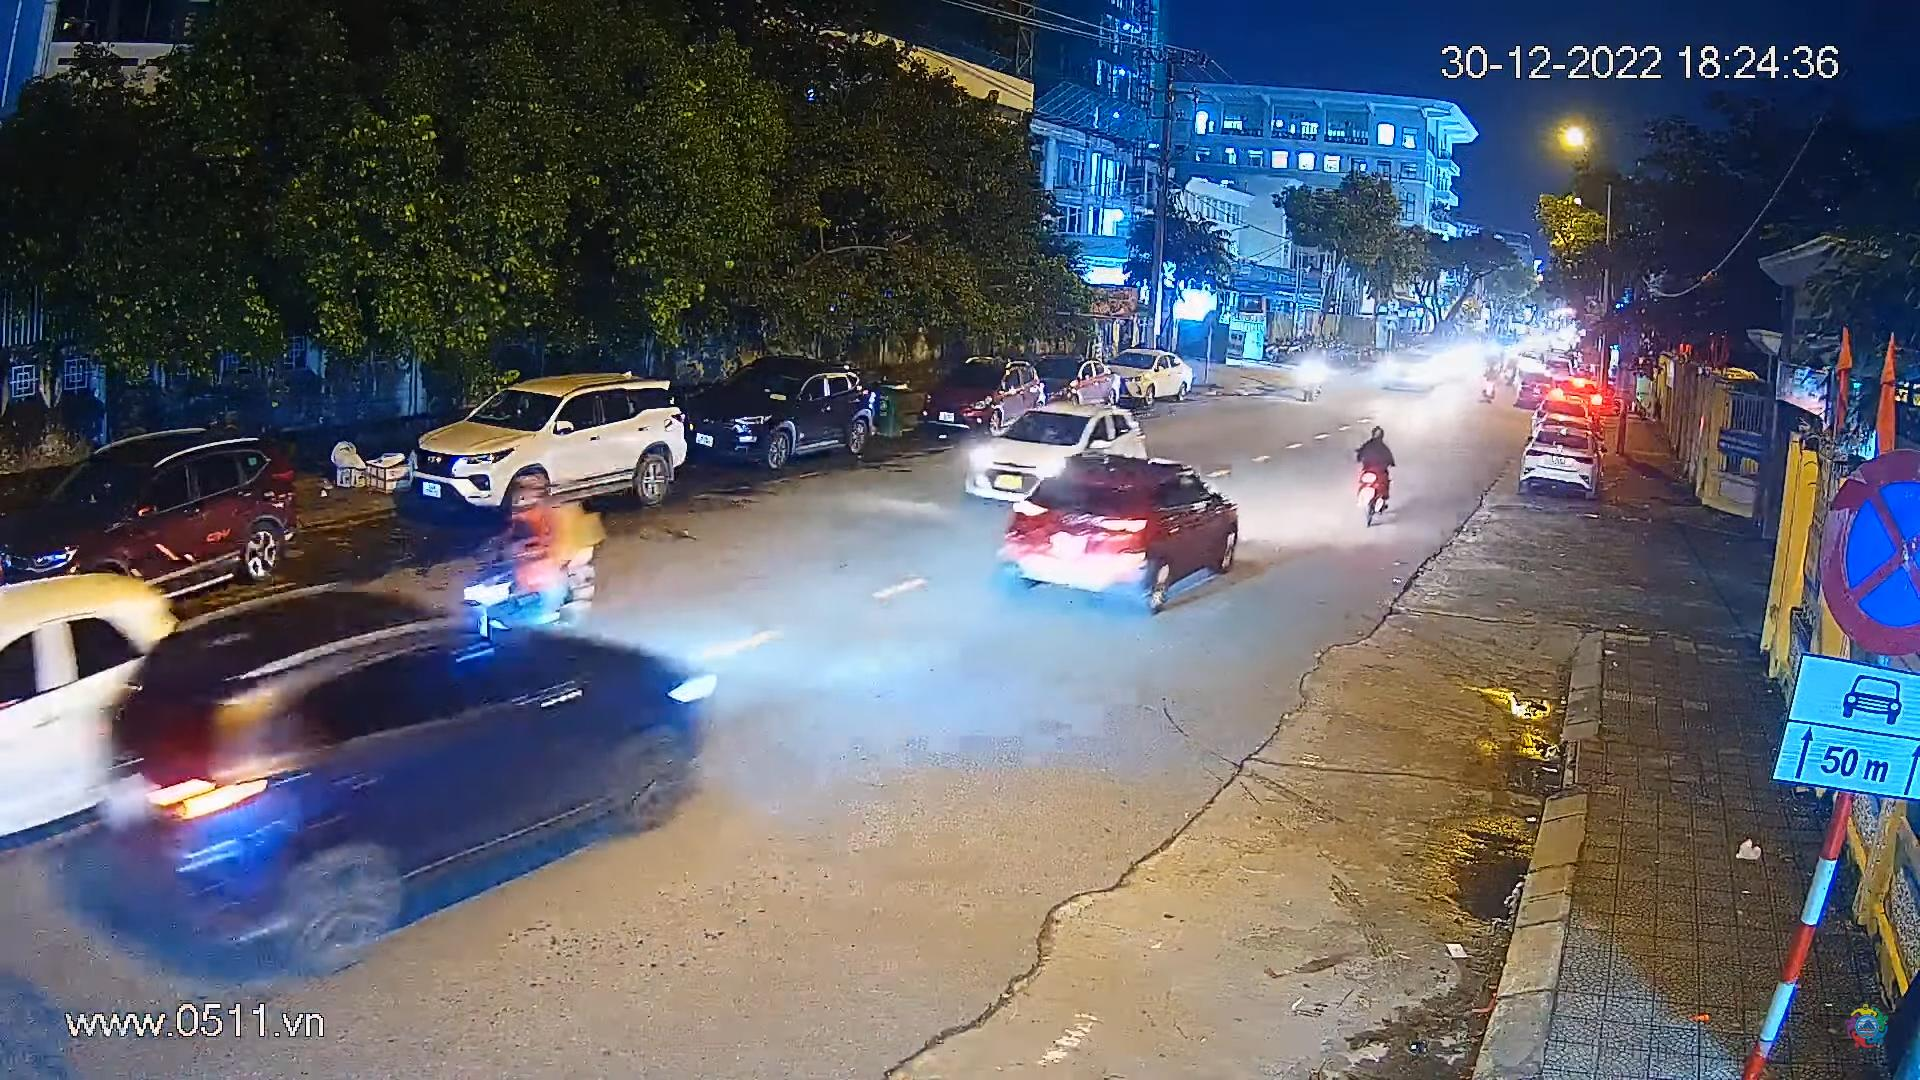car: (95, 570, 746, 988), (0, 426, 303, 605), (0, 566, 178, 847), (998, 450, 1265, 618), (411, 371, 690, 529), (680, 359, 878, 472), (964, 401, 1149, 509), (923, 353, 1054, 430), (1514, 418, 1601, 502), (1109, 345, 1196, 406), (1036, 352, 1122, 410), (1528, 388, 1589, 440)
motorcycle: (460, 473, 630, 628), (1342, 404, 1412, 530)
